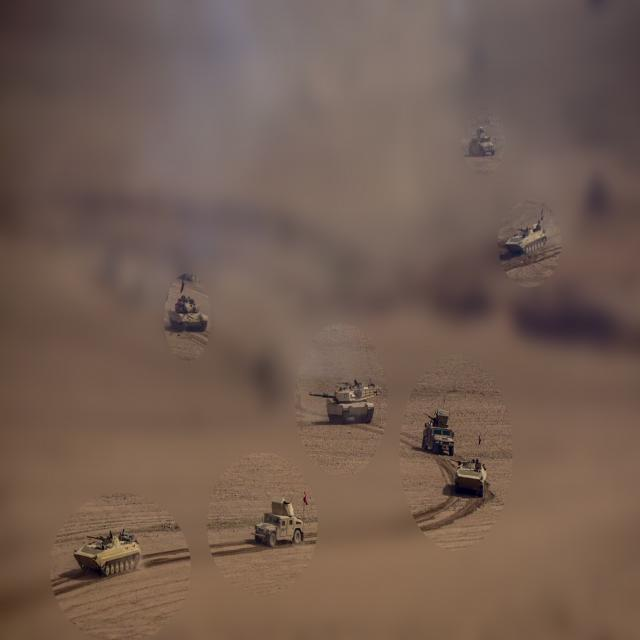tank: (310, 378, 380, 424), (74, 528, 141, 576), (164, 289, 212, 337), (503, 214, 547, 258), (454, 457, 488, 498)
